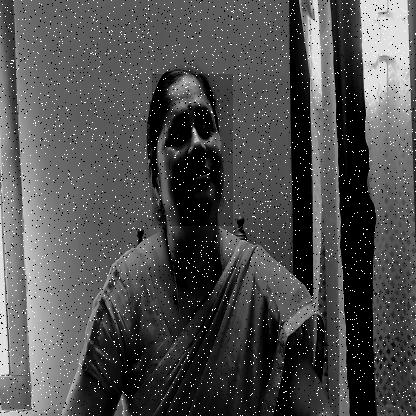Distracted: (152, 74, 233, 226)
